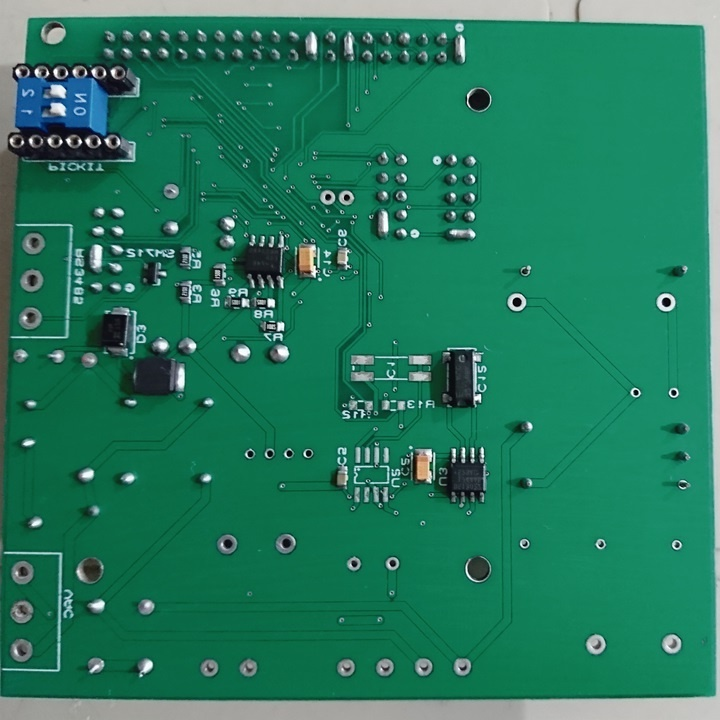F: (9, 558, 39, 589), (7, 597, 38, 626), (7, 636, 36, 667), (18, 266, 44, 295), (659, 629, 685, 658), (651, 289, 679, 315), (21, 230, 47, 257), (18, 305, 44, 332), (213, 534, 241, 559), (583, 630, 608, 658), (274, 533, 300, 559), (236, 655, 261, 682), (198, 655, 222, 682), (453, 655, 478, 680), (335, 654, 358, 681), (44, 343, 68, 368), (84, 653, 107, 679), (374, 655, 397, 681), (413, 655, 436, 679), (504, 290, 528, 313), (136, 596, 158, 621), (80, 349, 101, 372), (10, 343, 31, 364), (161, 180, 182, 201), (344, 554, 364, 575), (318, 188, 337, 210), (337, 189, 356, 209), (384, 555, 403, 575), (674, 475, 692, 495), (627, 383, 647, 401), (516, 260, 534, 280), (281, 444, 298, 463), (664, 385, 683, 402), (591, 538, 610, 553), (300, 446, 315, 463), (516, 540, 532, 555), (243, 446, 257, 463), (672, 539, 685, 556), (262, 448, 276, 463)
P: (86, 238, 107, 278), (449, 31, 470, 68), (444, 223, 479, 243), (372, 205, 391, 241), (341, 29, 359, 66), (302, 28, 321, 63)
